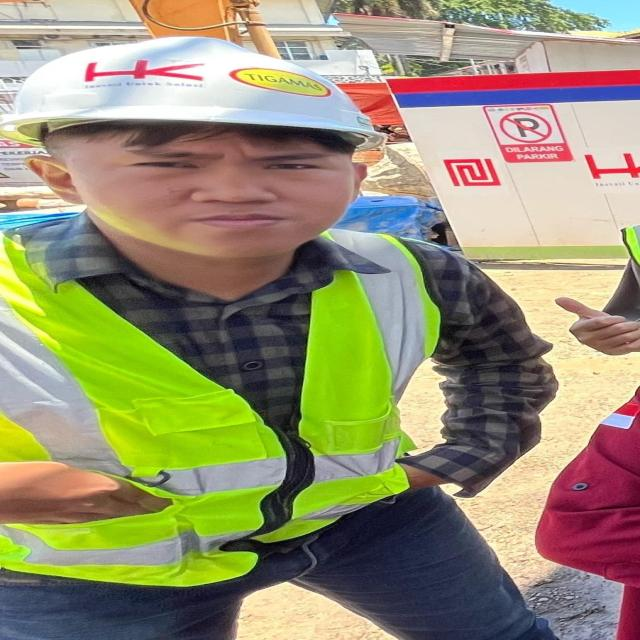safetyhelmet: (0, 32, 404, 267)
